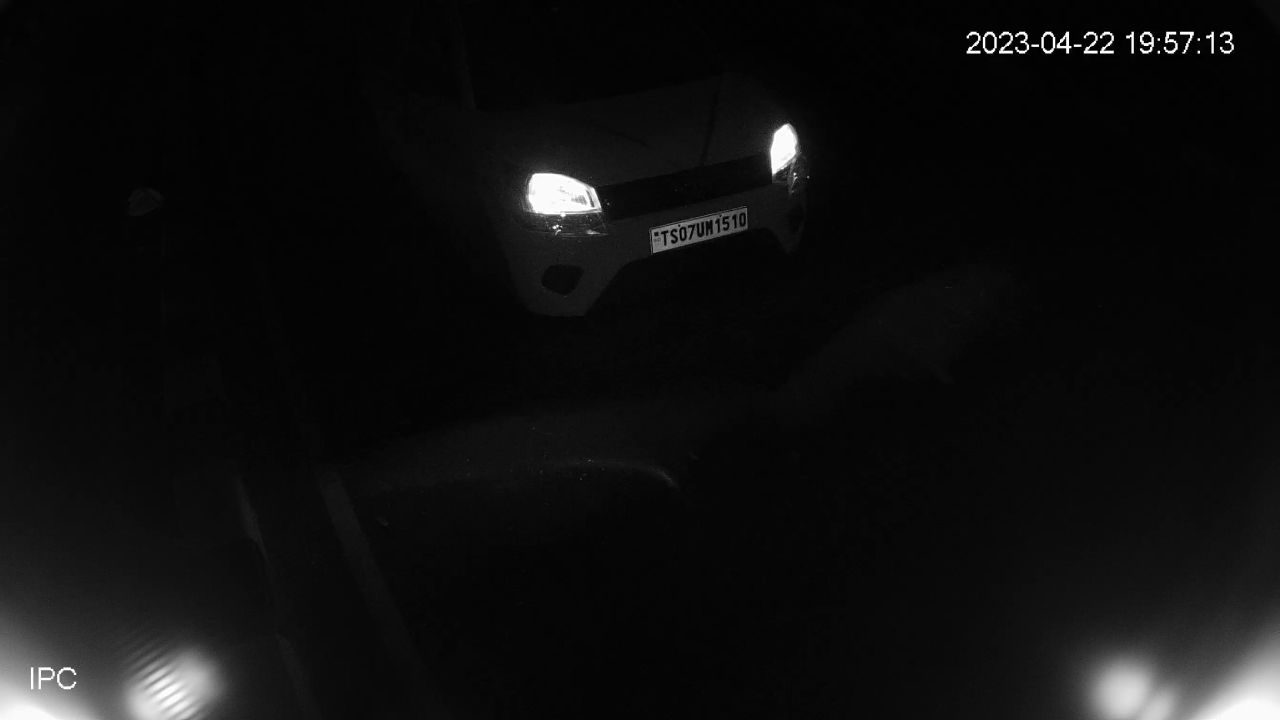license_plate: (647, 201, 752, 259)
